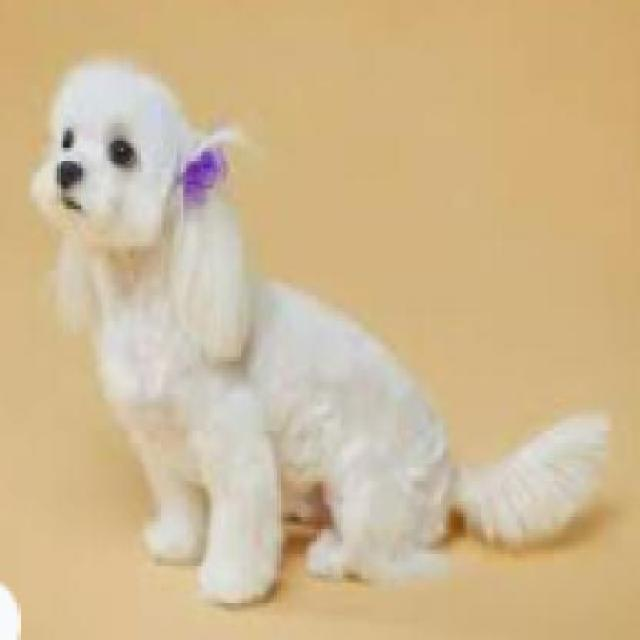Dog: (29, 62, 614, 612)
